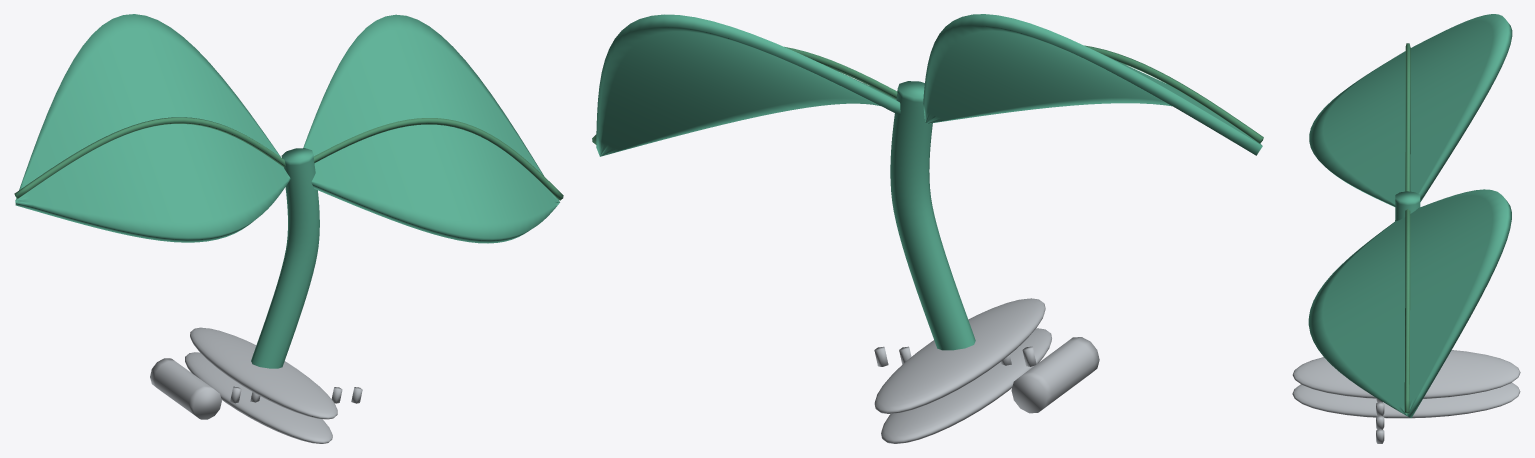
The model's file is Feminine-side-sweep-pashmina250-sprout.glb.
3 views of the same model, side by side, from view 1: azimuth 30°, elevation 25°; view 2: azimuth 150°, elevation 25°; view 3: azimuth 270°, elevation 25° (orthographic). The views are drawn at different scales.
Parts seen in each view (by area): view 1: 226 extra / Accessory / mint226, 226 extra / Sprout / clip silver235, 226 extra / Sprout / leaf vein235; view 2: 226 extra / Accessory / mint226, 226 extra / Sprout / clip silver235, 226 extra / Sprout / leaf vein235; view 3: 226 extra / Accessory / mint226, 226 extra / Sprout / clip silver235, 226 extra / Sprout / leaf vein235.
Boxes of the visible parts, left/top/right/bottom form: 226 extra / Accessory / mint226: left=15, top=14, right=559, bottom=368; 226 extra / Sprout / clip silver235: left=150, top=327, right=362, bottom=443; 226 extra / Sprout / leaf vein235: left=14, top=117, right=563, bottom=200; 226 extra / Accessory / mint226: left=596, top=14, right=1262, bottom=350; 226 extra / Sprout / clip silver235: left=874, top=298, right=1099, bottom=443; 226 extra / Sprout / leaf vein235: left=592, top=45, right=1263, bottom=144; 226 extra / Accessory / mint226: left=1308, top=14, right=1512, bottom=417; 226 extra / Sprout / clip silver235: left=1292, top=350, right=1520, bottom=443; 226 extra / Sprout / leaf vein235: left=1404, top=43, right=1410, bottom=413.
Bounding box in the file's own units: 0.2645 × 0.1738 × 0.104.
